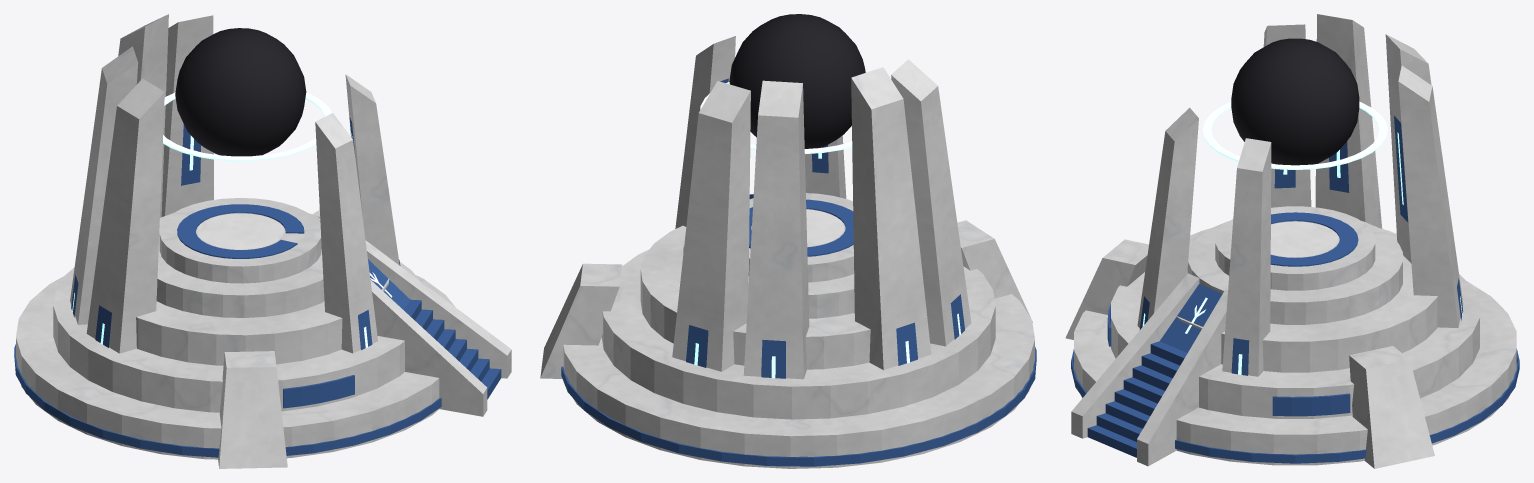
Rendered from orbecommandement-meshy.glb.
The picture shows the model from 3 angles, left to right: view 1: azimuth 30°, elevation 25°; view 2: azimuth 150°, elevation 25°; view 3: azimuth 270°, elevation 25°; orthographic projection. The views are drawn at different scales.
Visible parts, largest first — view 1: base, float_orbe, fx_halo, fx_cyan_anneau; view 2: base, float_orbe, fx_halo; view 3: base, float_orbe, fx_halo, fx_cyan_anneau, fx_cyan_lignes.
Part boxes in pixels (box(x1,y1,x2,y2)): base: box(14, 14, 511, 468); float_orbe: box(175, 28, 306, 156); fx_halo: box(197, 213, 283, 249); fx_cyan_anneau: box(163, 92, 331, 161); base: box(540, 36, 1036, 468); float_orbe: box(729, 14, 865, 148); fx_halo: box(806, 209, 843, 246); base: box(1065, 14, 1519, 468); float_orbe: box(1231, 38, 1359, 165); fx_halo: box(1271, 221, 1337, 256); fx_cyan_anneau: box(1202, 101, 1387, 169); fx_cyan_lignes: box(1142, 132, 1462, 374).
Size of the model in its own units: 3.2 by 2.55 by 3.2.
Materials: 5 (1 with a texture image).
